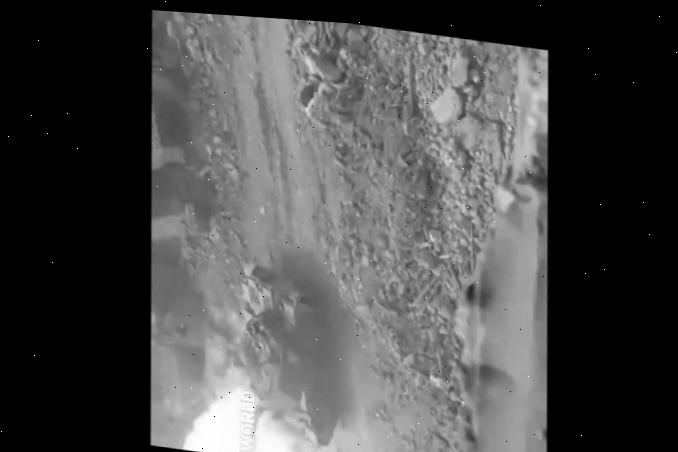tank: (225, 257, 349, 452)
